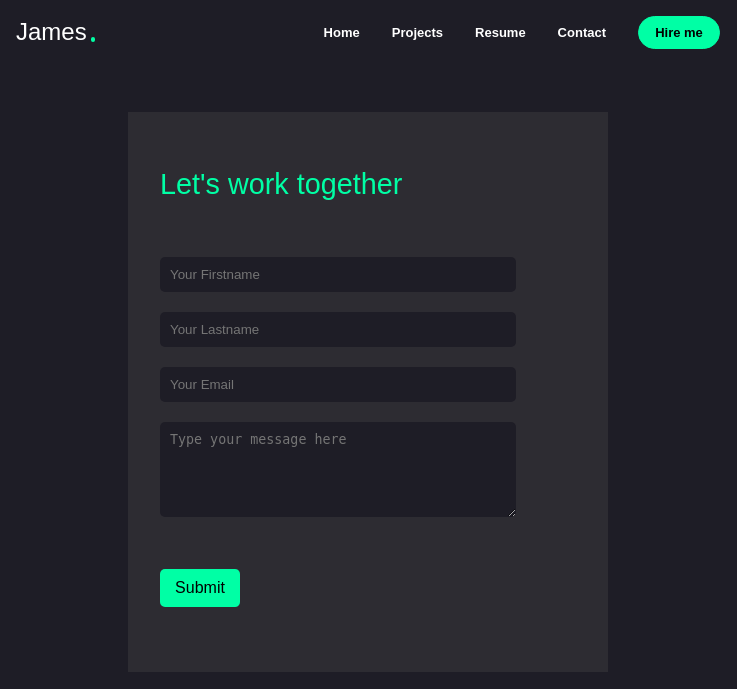
Test case: Contact component › sends the email successfully and displays success message
Type "John" into the field with placeholder "Your Firstname" at {"x": 338, "y": 274}, box [160,257,516,292]
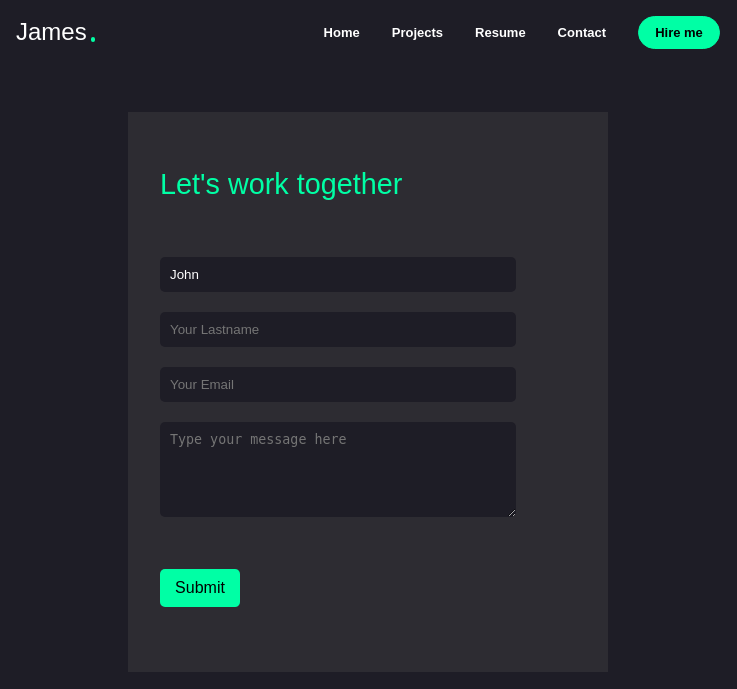
Type "Doe" into the field with placeholder "Your Lastname" at {"x": 338, "y": 330}, box [160,312,516,347]
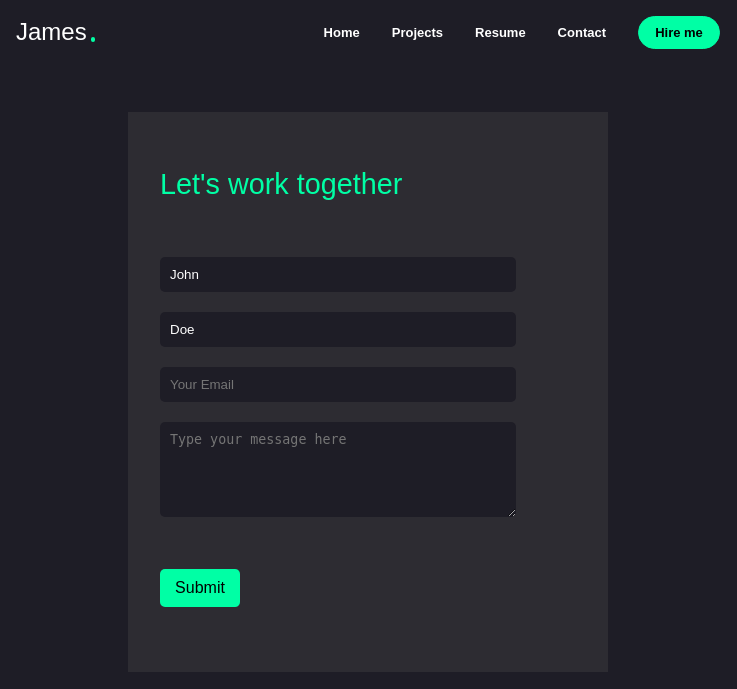
Type "john.doe@example.com" into the field with placeholder "Your Email" at {"x": 338, "y": 384}, box [160,367,516,402]
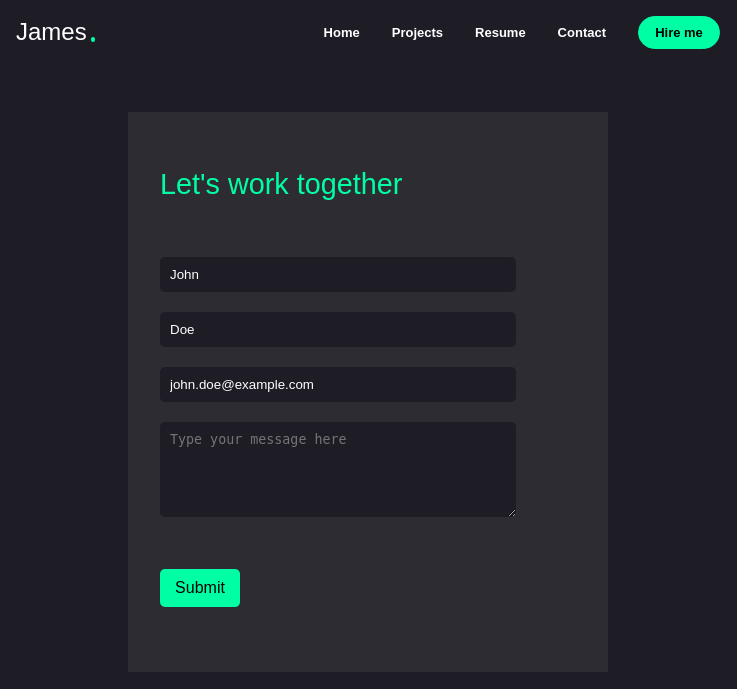
Type "Hello, this is a test message." into the text box with placeholder "Type your message here" at {"x": 338, "y": 470}, box [160,422,516,517]
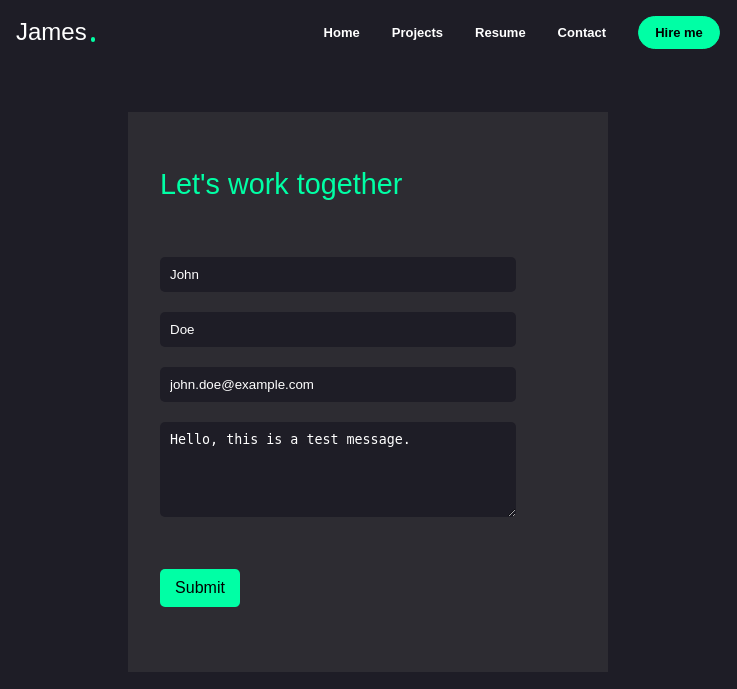
Click the button "Submit" at {"x": 200, "y": 588}, box [160,569,240,607]
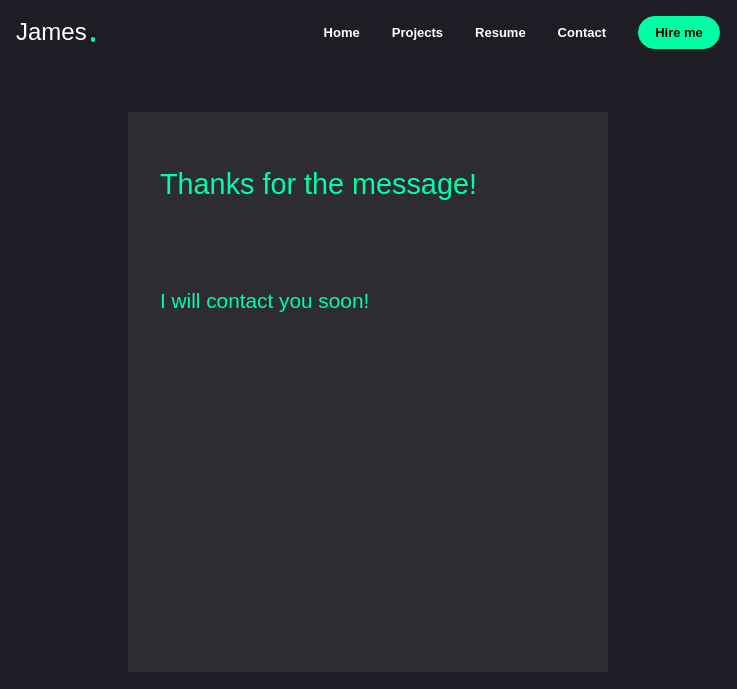
Now the text "Thanks for the message!" is shown, box [160,168,477,200]
